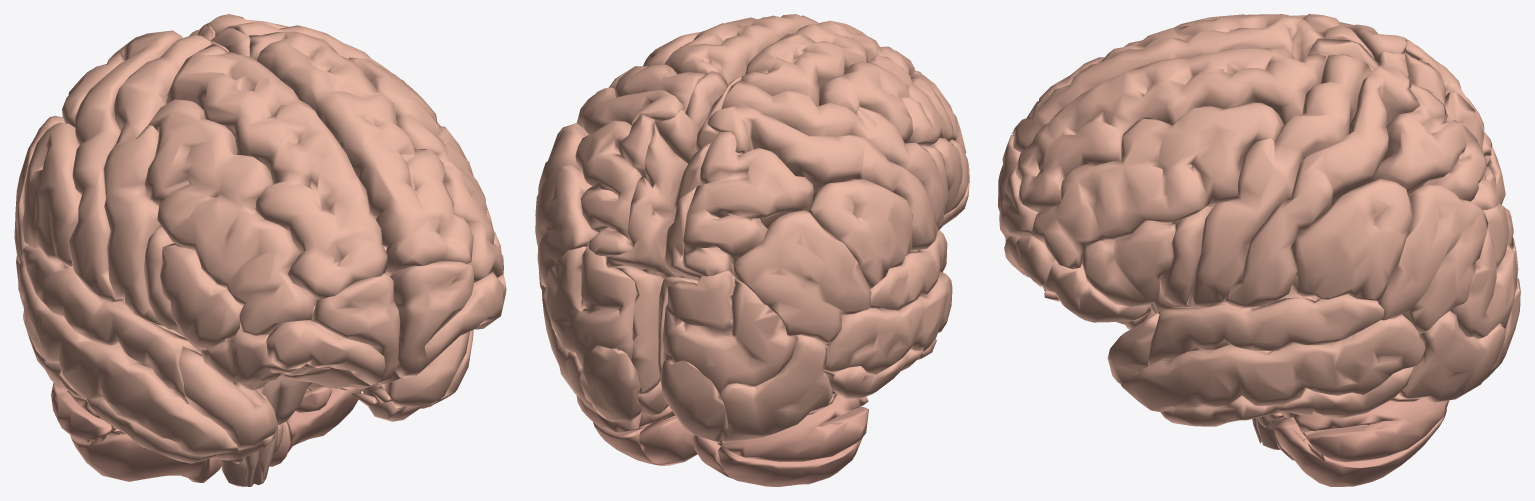
File: brain-lite.glb
3 views of the same model, side by side, from view 1: azimuth 30°, elevation 25°; view 2: azimuth 150°, elevation 25°; view 3: azimuth 270°, elevation 25° (orthographic). The views are drawn at different scales.
Visible parts, largest first — view 1: Frontal_lobe, Temporal_lobe, Parietal_lobe, Cerebellum, Brainstem; view 2: Parietal_lobe, Occipital_lobe, Frontal_lobe, Cerebellum, Temporal_lobe; view 3: Frontal_lobe, Parietal_lobe, Temporal_lobe, Occipital_lobe, Cerebellum, Brainstem.
Boxes of the visible parts, x1,y1,x2,y2 form: Frontal_lobe: (103,22,506,460); Temporal_lobe: (18,245,473,463); Parietal_lobe: (14,14,389,302); Cerebellum: (51,382,361,482); Brainstem: (221,376,311,486); Parietal_lobe: (535,87,938,343); Occipital_lobe: (542,245,836,442); Frontal_lobe: (608,14,969,230); Cerebellum: (576,394,868,486); Temporal_lobe: (539,230,952,398); Frontal_lobe: (998,14,1378,329); Parietal_lobe: (1223,22,1497,333); Temporal_lobe: (1107,286,1425,426); Occipital_lobe: (1389,146,1520,402); Cerebellum: (1267,397,1449,486); Brainstem: (1252,415,1280,449).
Bounding box in the file's own units: 1.63 × 1.74 × 2.
